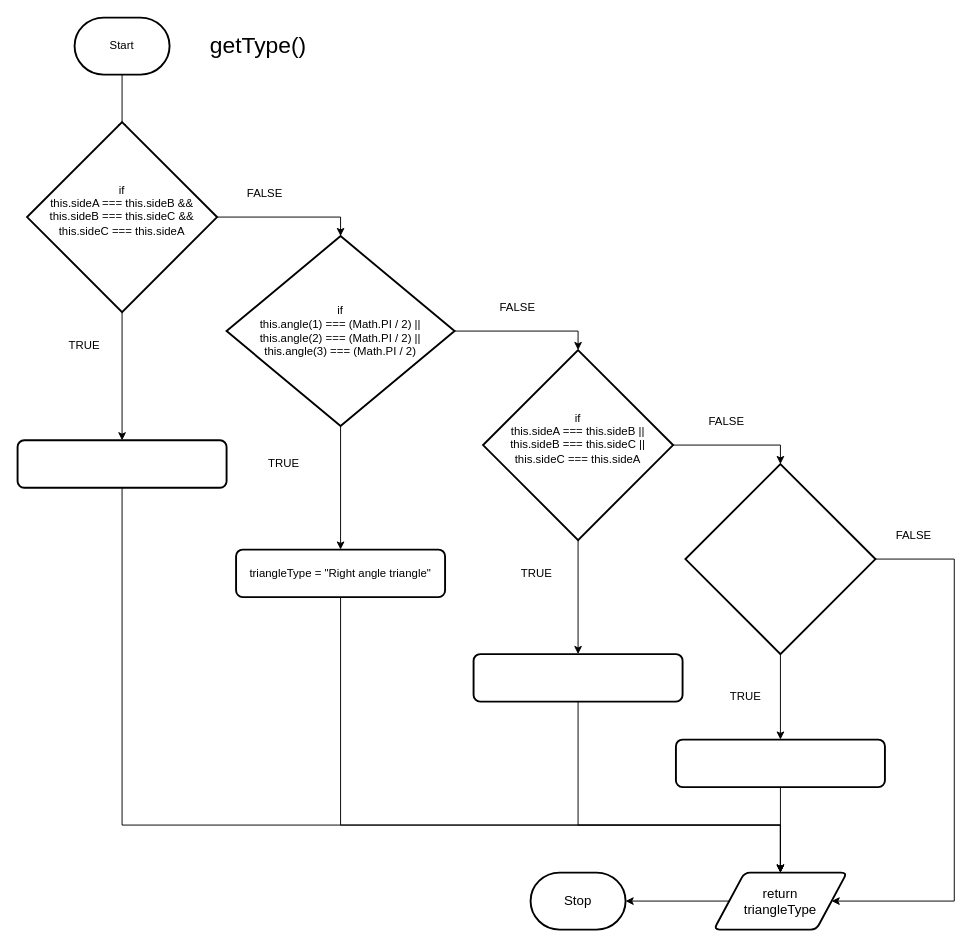
Image size: 979x946. Some labels were removed from this diagram. The shapes that lost their labels are listed below. From the top down, each one's centre as x and y in pixels, then its label:
pixel 121 463: triangleType = "Equilateral triangle"
pixel 780 559: if this.sideA != this.sideB != this.sideC
pixel 577 677: triangleType = "Isosceles triangle"
pixel 779 763: triangleType = "Scalene triangle"
